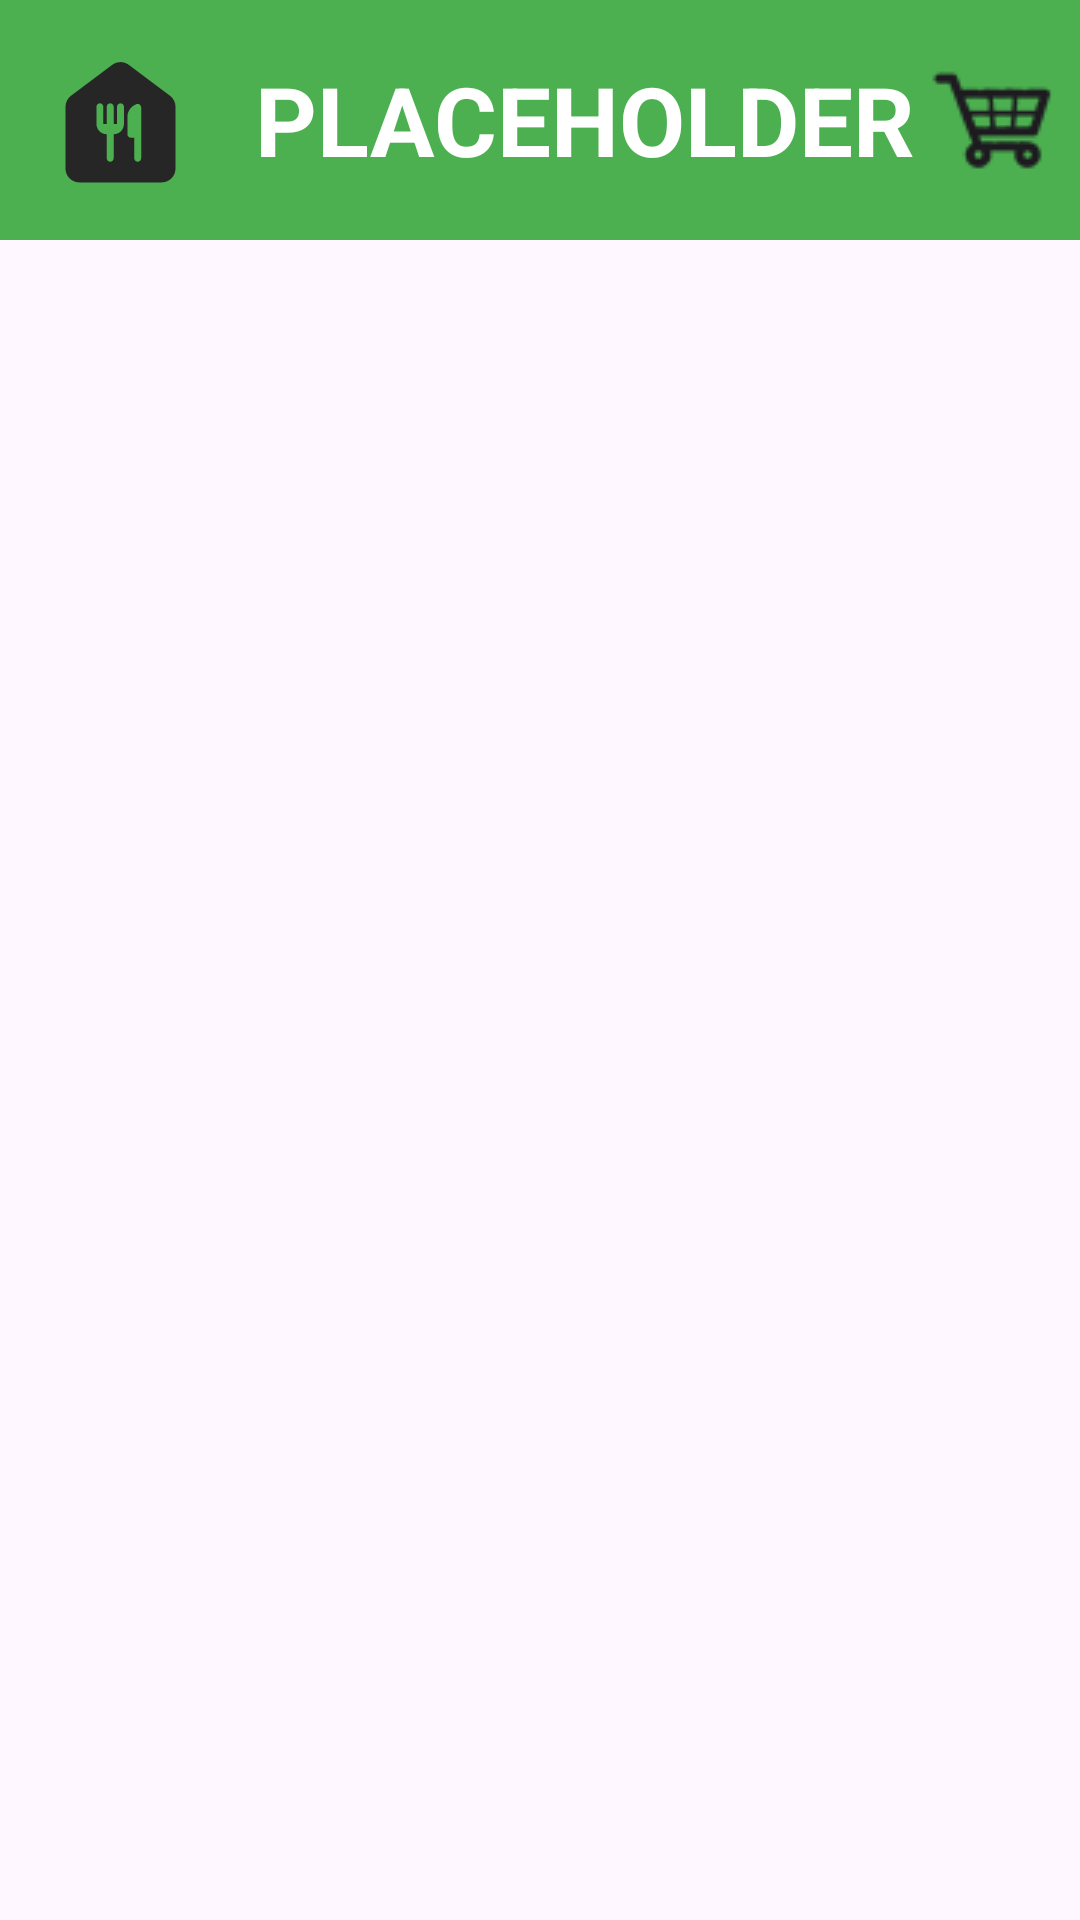

Point at icon controls on the screen. Image size 1080*1920, points as (x=x, y=y).
Voir mon panier: (x=992, y=120)
